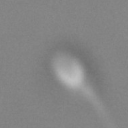normal: (80, 84, 116, 128)
